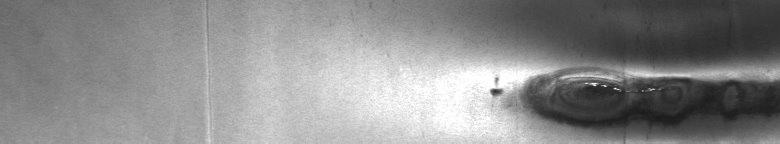ke: (484, 52, 776, 136)
